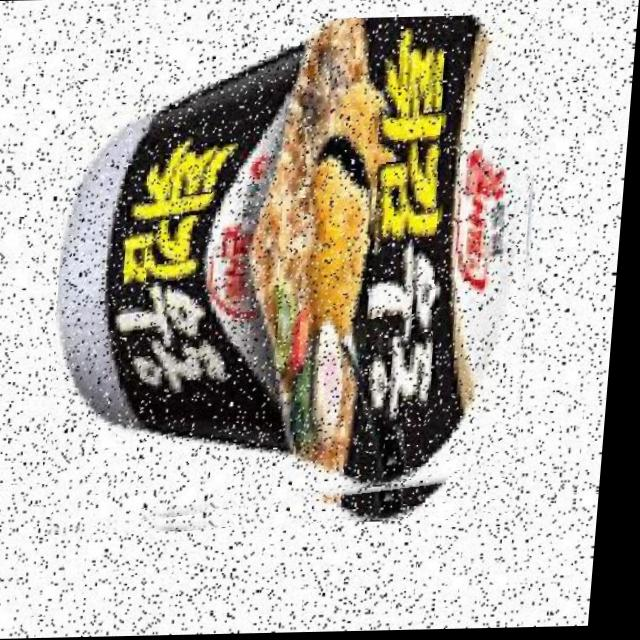Miscellaneous: (45, 16, 552, 534)
